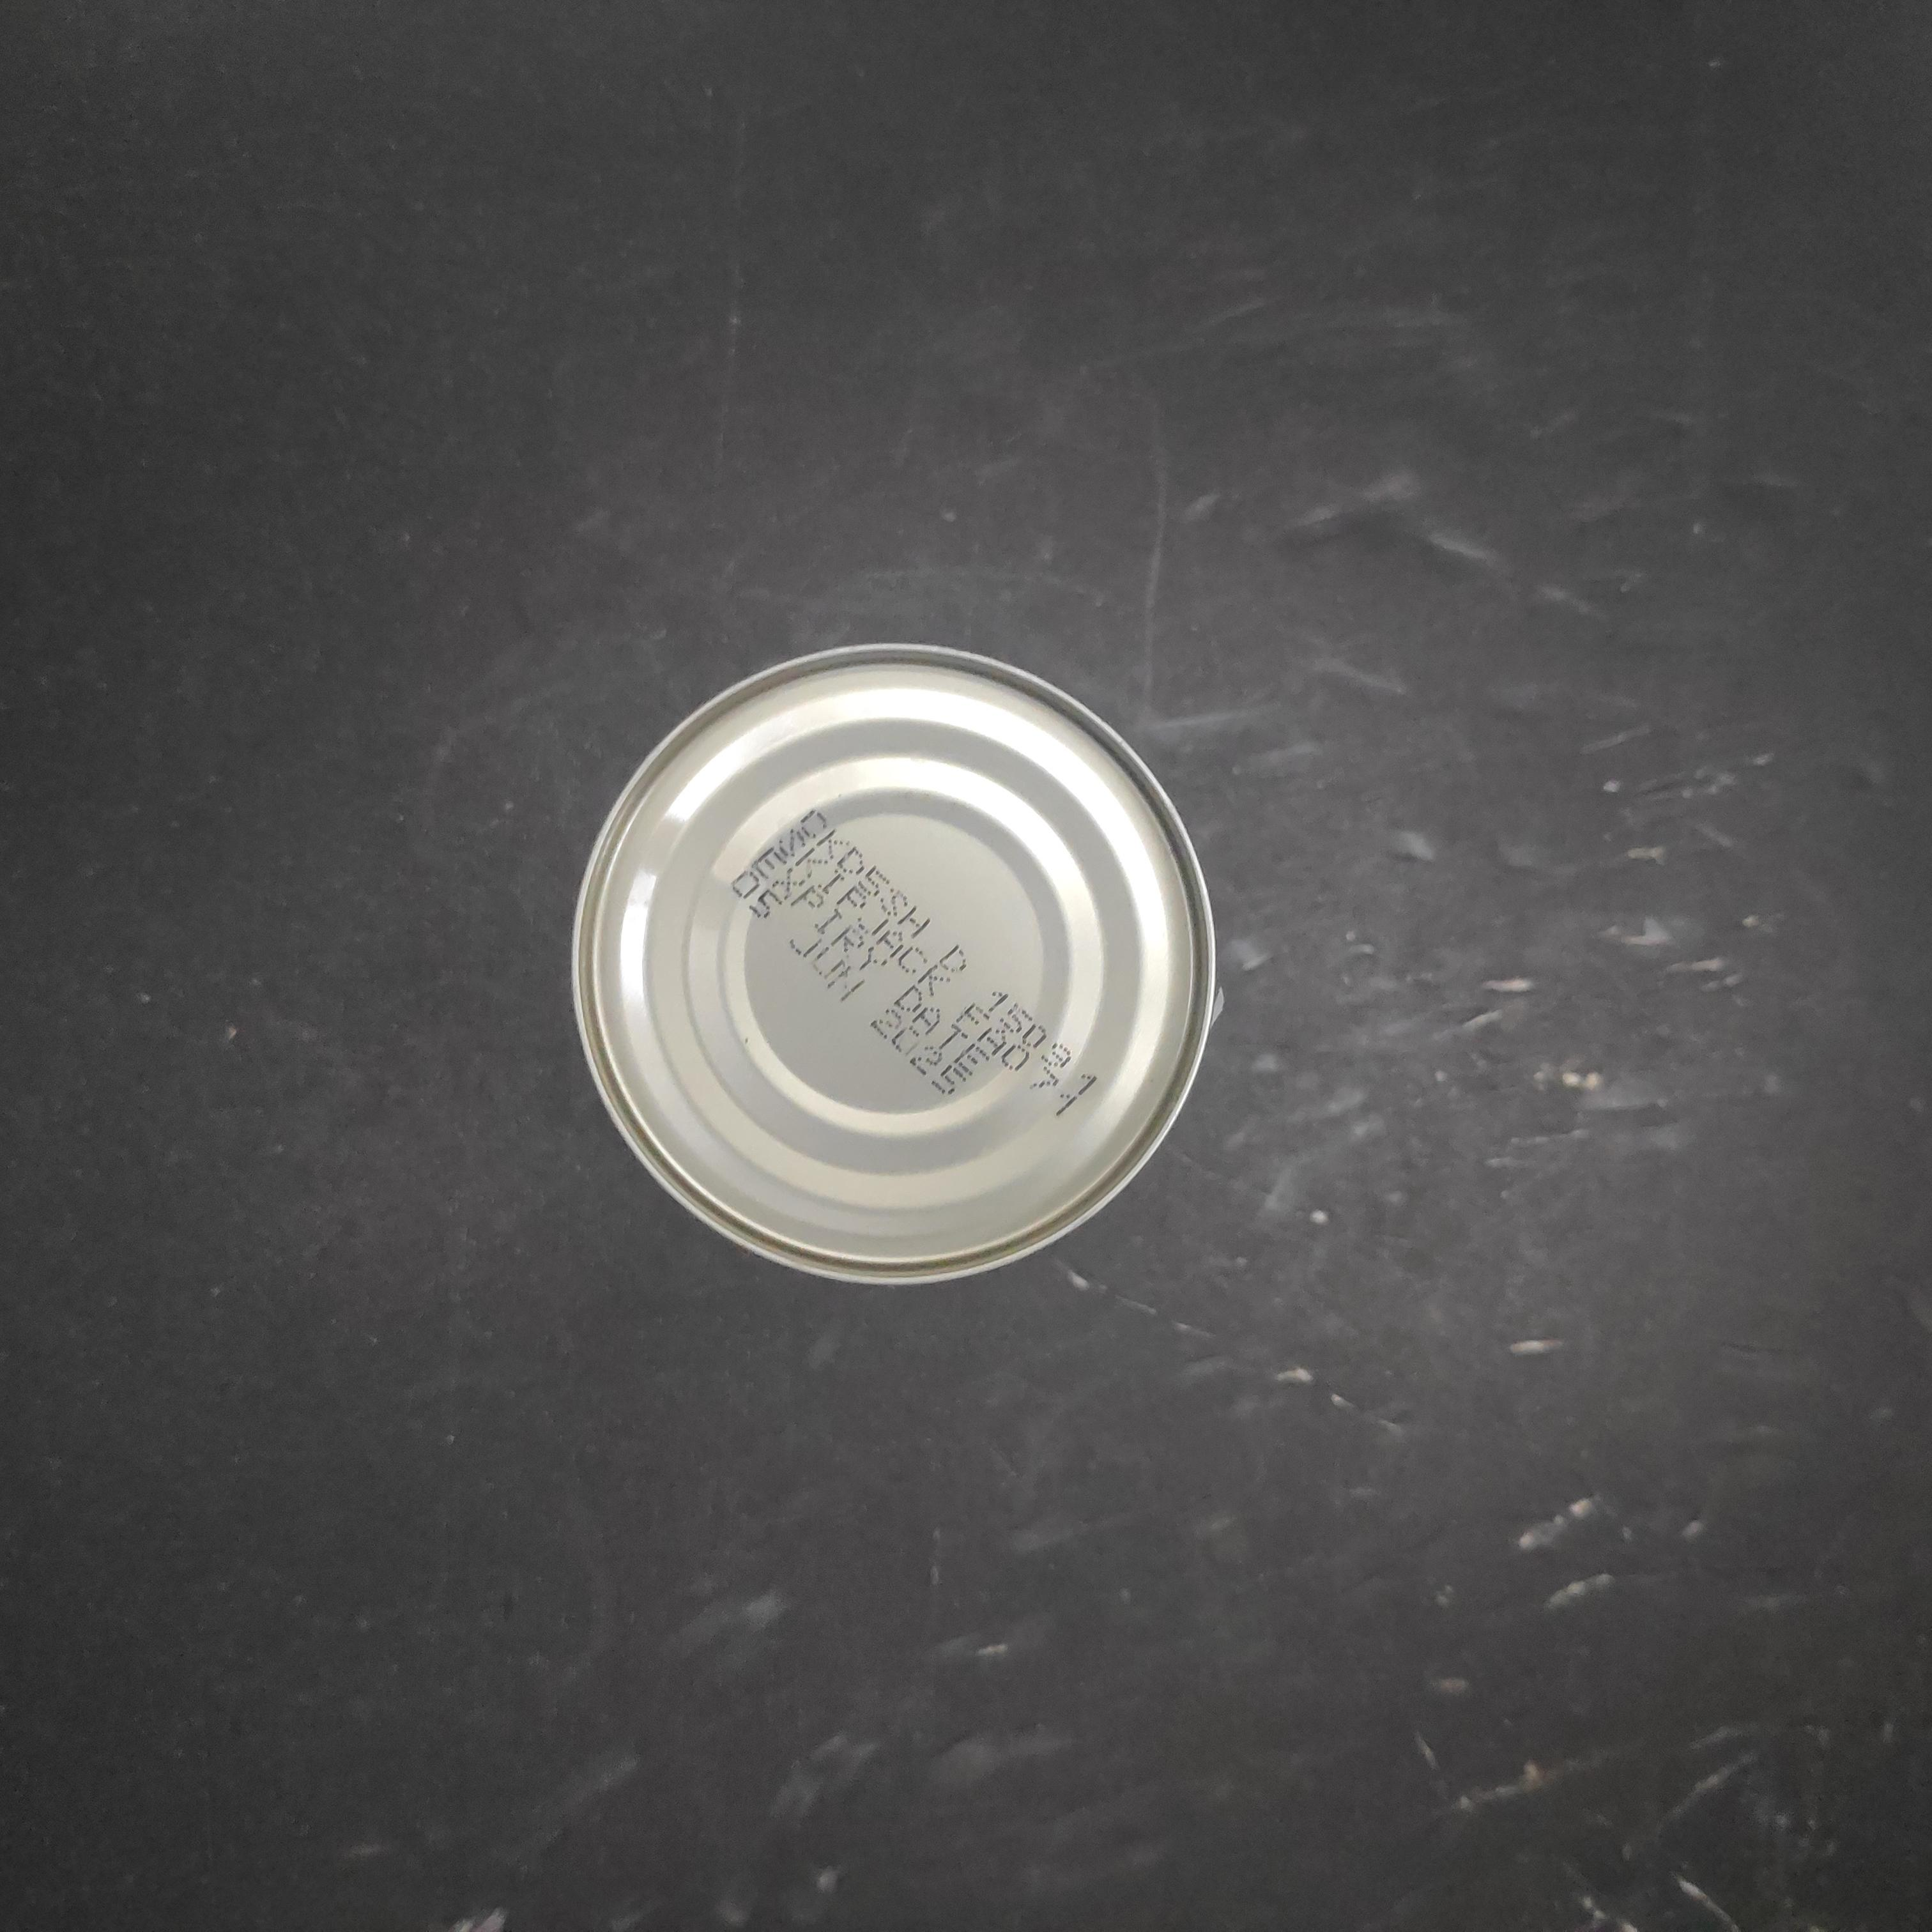No defect: (568, 640, 1219, 1290)
